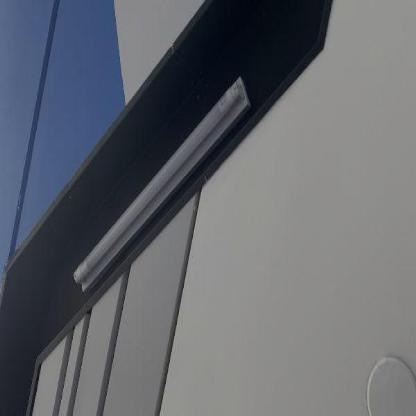light_off: (70, 52, 256, 318)
